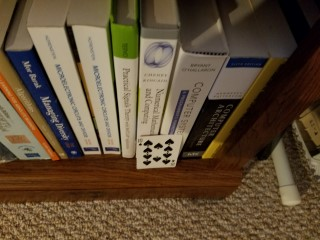TenOfSpades: (135, 133, 183, 169)
